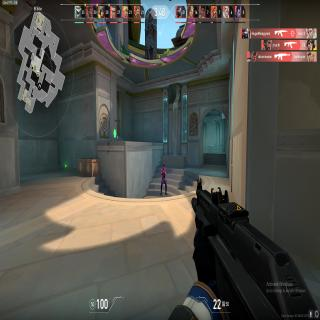ENEMY-BODY: (161, 163, 167, 195)
ENEMY-HEAD: (162, 163, 165, 170)
